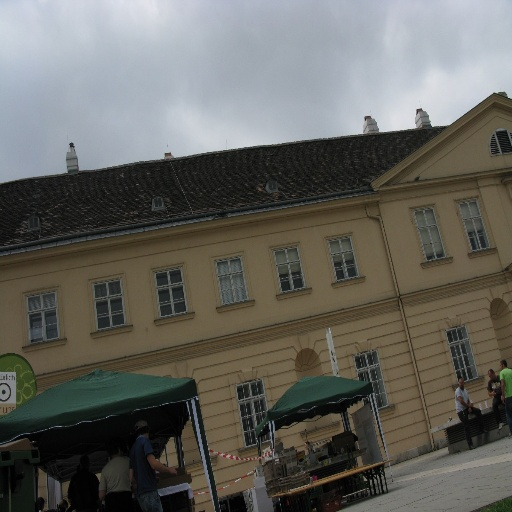hand: (168, 465, 176, 477), (501, 394, 505, 405), (468, 407, 473, 413), (470, 400, 473, 407), (491, 391, 495, 396)
